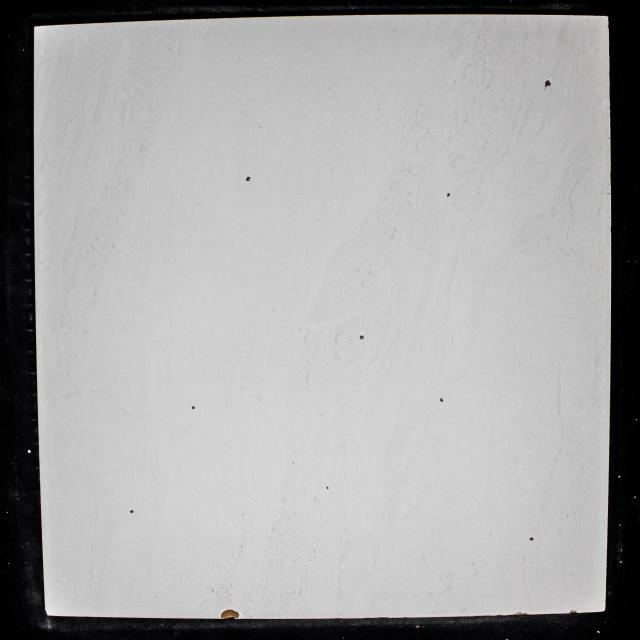edge-chipping: (218, 609, 242, 619), (511, 612, 530, 616), (569, 610, 578, 613)
hole: (543, 78, 552, 92), (190, 404, 197, 412), (245, 175, 251, 182), (128, 509, 135, 515), (528, 536, 534, 542), (446, 192, 451, 198), (358, 335, 364, 340), (439, 397, 444, 402), (325, 486, 330, 490)
